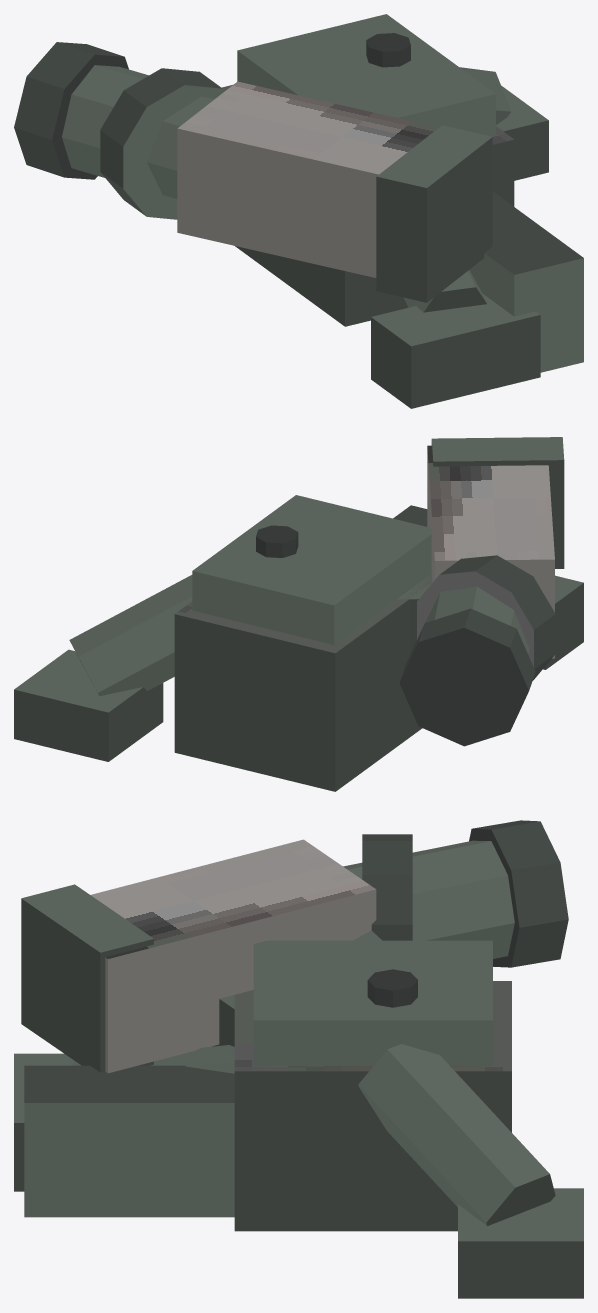
Rendered from Building_AncientSecurityTurret__B.glb.
3 views of the same model, one above another, from view 1: azimuth 30°, elevation 25°; view 2: azimuth 150°, elevation 25°; view 3: azimuth 270°, elevation 25° (orthographic). The views are drawn at different scales.
Parts seen in each view (by area): view 1: AncientSecurityTurret__B; view 2: AncientSecurityTurret__B; view 3: AncientSecurityTurret__B.
Part boxes in pixels (left/top/right/bottom): AncientSecurityTurret__B: left=14, top=14, right=583, bottom=408; AncientSecurityTurret__B: left=14, top=437, right=583, bottom=791; AncientSecurityTurret__B: left=14, top=820, right=583, bottom=1298.
Bounding box in the file's own units: 1.02 × 0.43 × 0.9044.
Materials: 1 (1 with a texture image).
